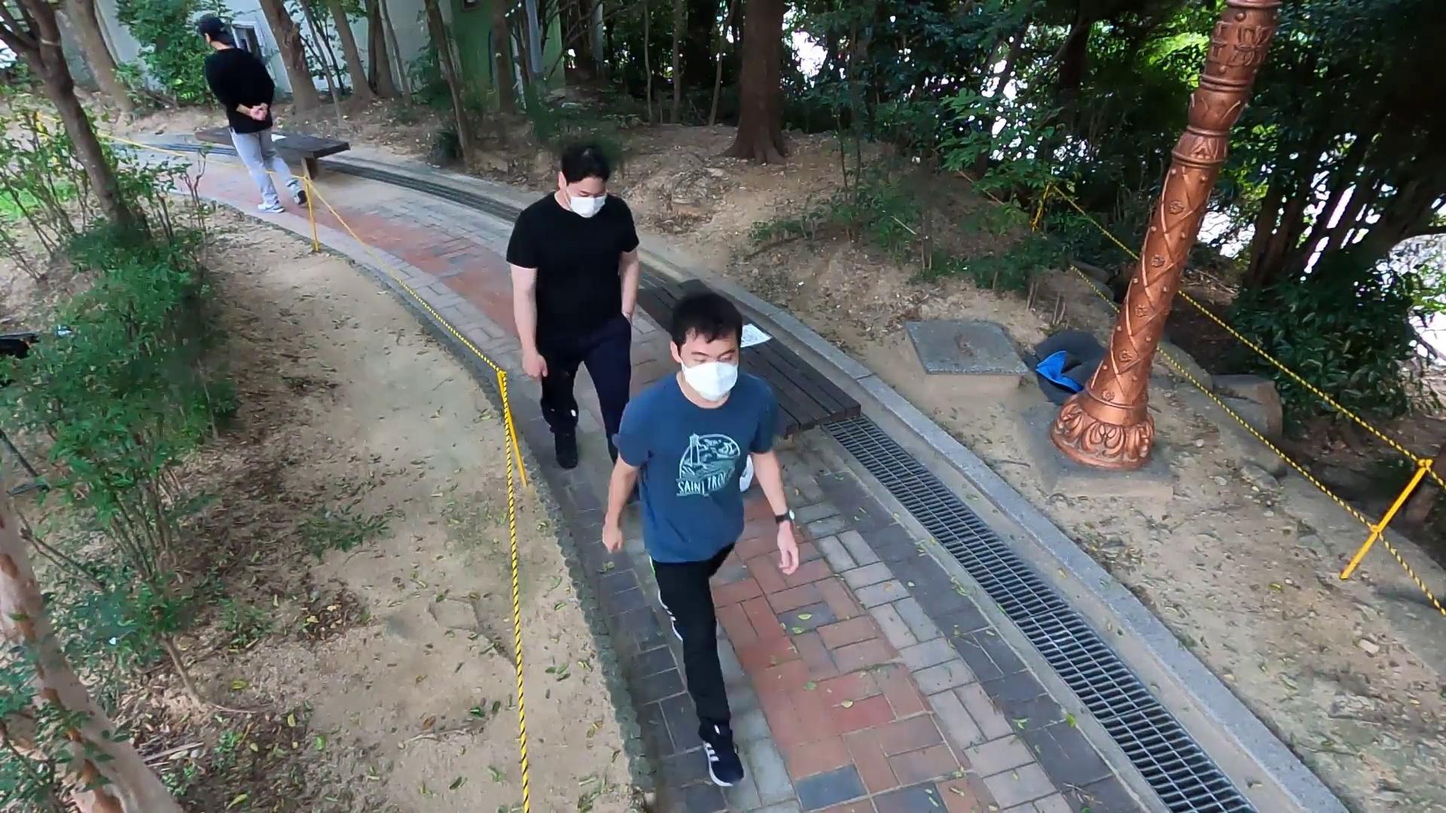person: (595, 286, 811, 792), (506, 143, 647, 476), (192, 9, 311, 219)
trash: (1030, 324, 1109, 404)
